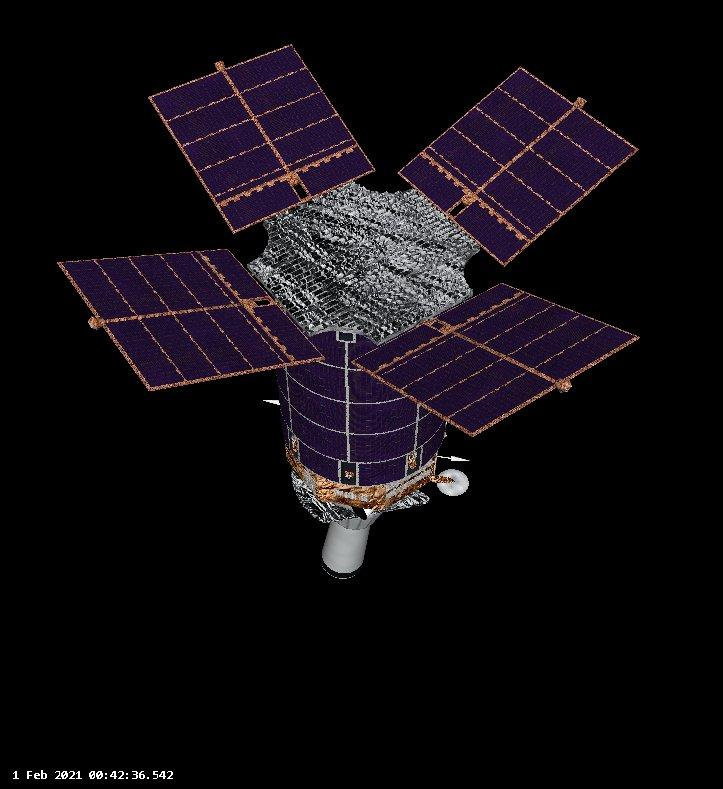antenna: (435, 469, 471, 498), (434, 453, 472, 465), (259, 393, 282, 409)
body: (279, 307, 447, 510)
solar: (395, 61, 642, 269), (348, 277, 644, 441), (146, 39, 376, 233), (56, 246, 328, 393), (276, 325, 446, 487)
thruster: (320, 505, 375, 583), (352, 499, 379, 523)
